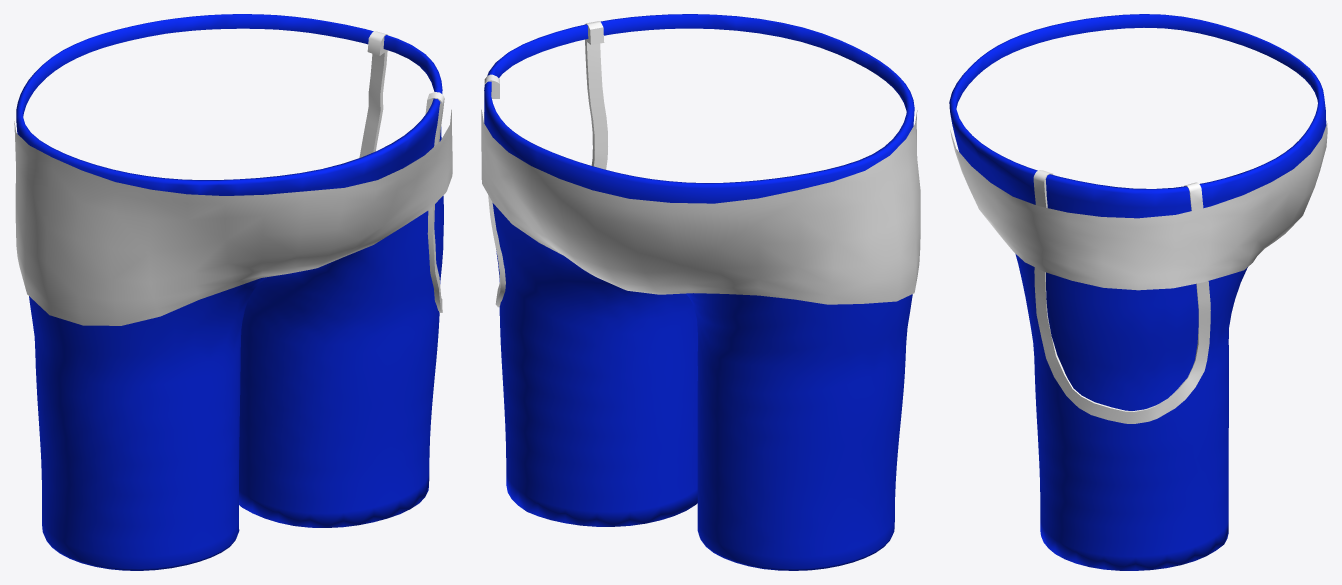
Rendered from minji_pants.gltf.
The picture shows the model from 3 angles, left to right: view 1: azimuth 30°, elevation 25°; view 2: azimuth 150°, elevation 25°; view 3: azimuth 270°, elevation 25°; orthographic projection. The views are drawn at different scales.
Visible parts, largest first — view 1: minji_pants, Remesh.1, Sweep.1; view 2: minji_pants, Remesh.1, Sweep.1; view 3: minji_pants, Remesh.1, Sweep.1.
Part boxes in pixels (x1,y1,x2,y2): minji_pants: [16, 14, 443, 570]; Remesh.1: [14, 109, 452, 325]; Sweep.1: [359, 31, 444, 312]; minji_pants: [484, 14, 914, 570]; Remesh.1: [481, 109, 920, 304]; Sweep.1: [484, 21, 607, 307]; minji_pants: [949, 14, 1326, 570]; Remesh.1: [950, 123, 1327, 290]; Sweep.1: [1033, 170, 1210, 423].
Bounding box in the file's own units: 0.0356 × 0.0345 × 0.0306.
Materials: 2 (1 with a texture image).
